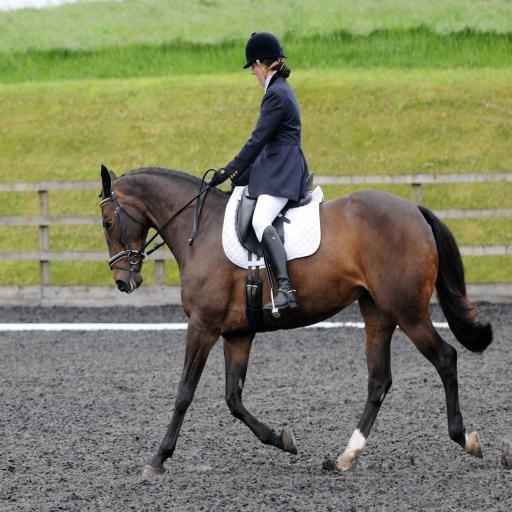horse: (93, 164, 499, 482)
